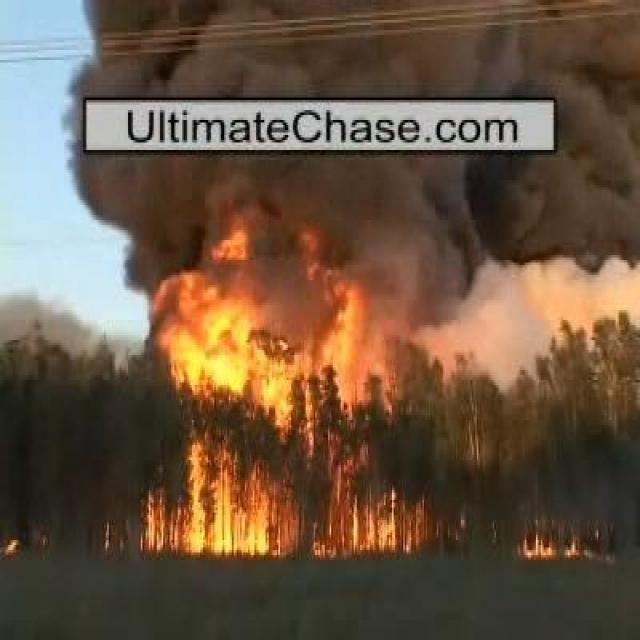fire: (188, 444, 266, 549)
smoke: (365, 168, 580, 354), (75, 13, 550, 91), (122, 160, 324, 296)
